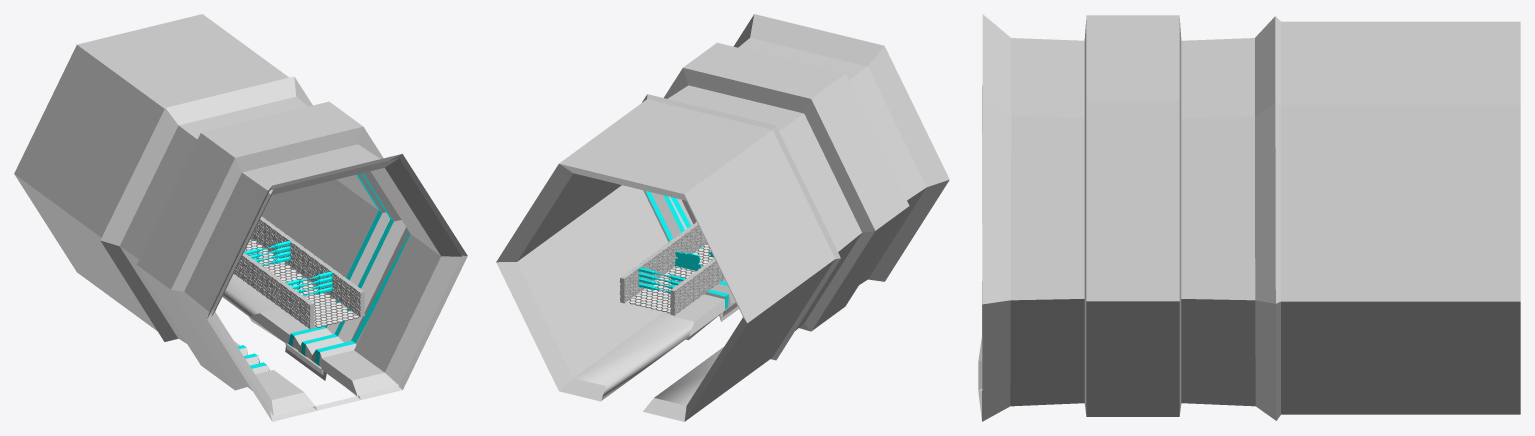
The model's file is Lab 3.fbx.
3 views of the same model, side by side, from view 1: azimuth 30°, elevation 25°; view 2: azimuth 150°, elevation 25°; view 3: azimuth 270°, elevation 25° (orthographic). The views are drawn at different scales.
Parts seen in each view (by area): view 1: Cylinder.002, brick_wall_without_proxy.055, pillar, pillar.001; view 2: Cylinder.002, brick_wall_without_proxy.055, pillar.002; view 3: Cylinder.002.
Boxes of the visible parts, x1,y1,x2,y2 form: Cylinder.002: (14, 14, 467, 421); brick_wall_without_proxy.055: (233, 216, 364, 329); pillar: (285, 271, 332, 296); pillar.001: (244, 240, 290, 265); Cylinder.002: (496, 14, 949, 421); brick_wall_without_proxy.055: (619, 222, 724, 315); pillar.002: (638, 267, 686, 293); Cylinder.002: (978, 14, 1520, 421).
Bounding box in the file's own units: 8499 × 7564 × 11255.
